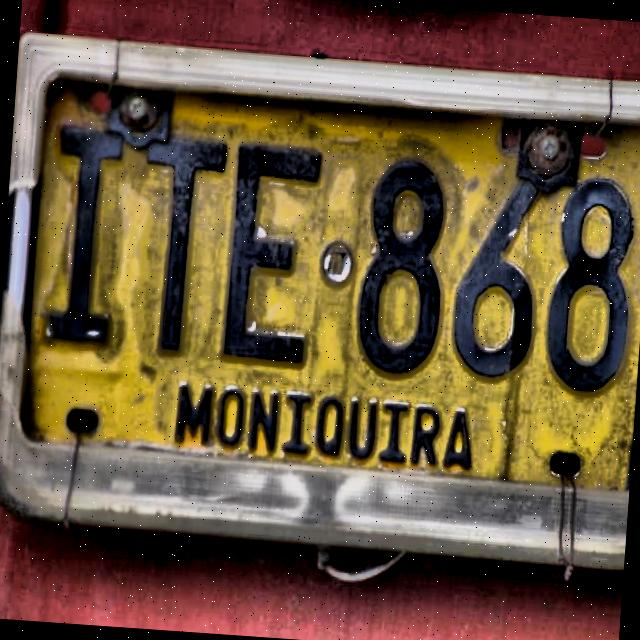6: (438, 160, 556, 394)
8: (339, 153, 458, 386), (542, 167, 640, 406)
E: (218, 132, 331, 366)
I: (42, 118, 134, 346)
T: (129, 128, 231, 356)
